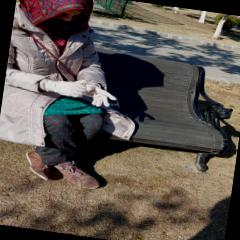gloved: (84, 83, 120, 109), (46, 75, 86, 98)
